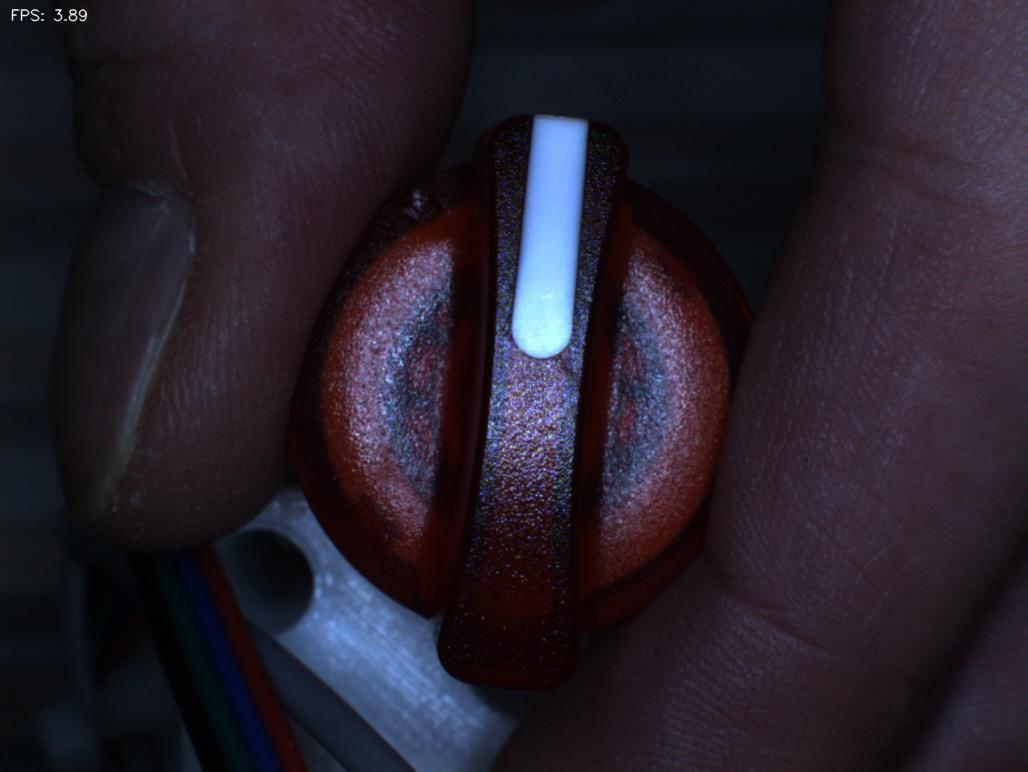Choc: (381, 161, 459, 237)
